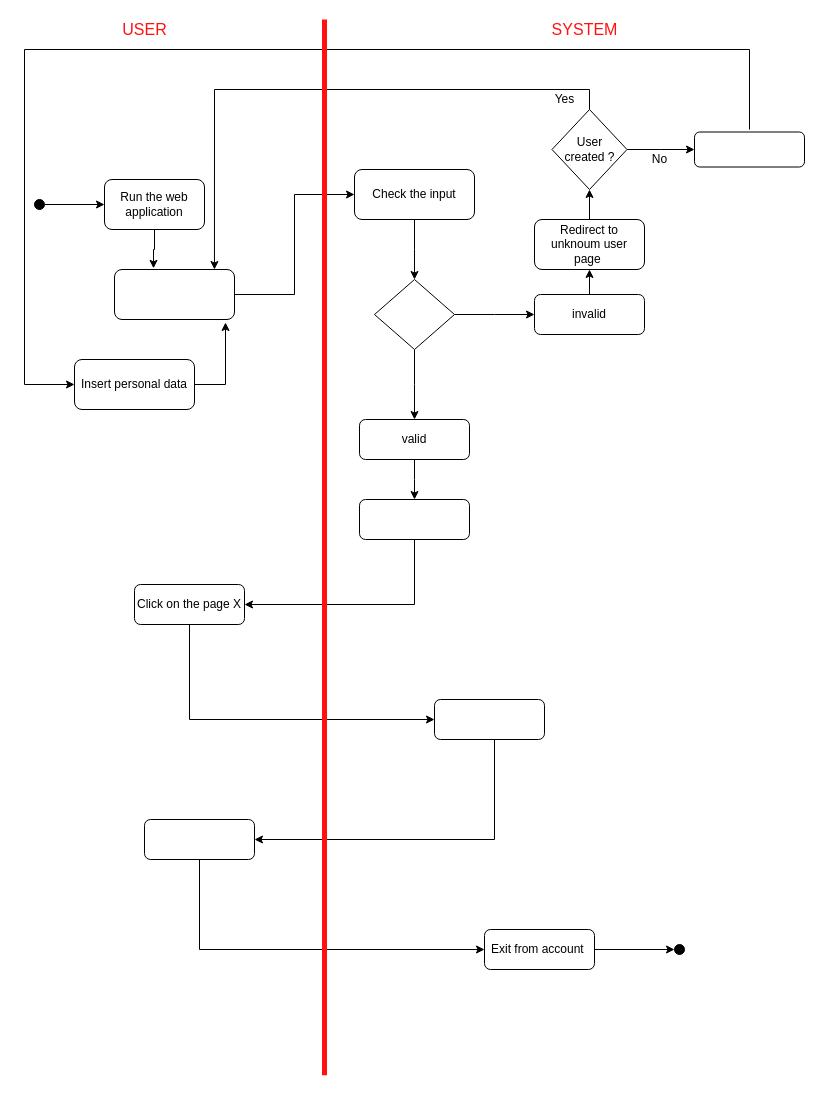
Some shapes in this 822 by 1096 pixel diagram are drawn without their labels. The box of each missing label's shape, as (x1, y1, x2, y2) in pixels:
Create a new account: (694, 131, 804, 167)
Insert username and password: (114, 268, 234, 320)
Load the page X: (434, 698, 544, 740)
Log X: (144, 818, 254, 860)
Open the logged homepage: (358, 498, 470, 540)
